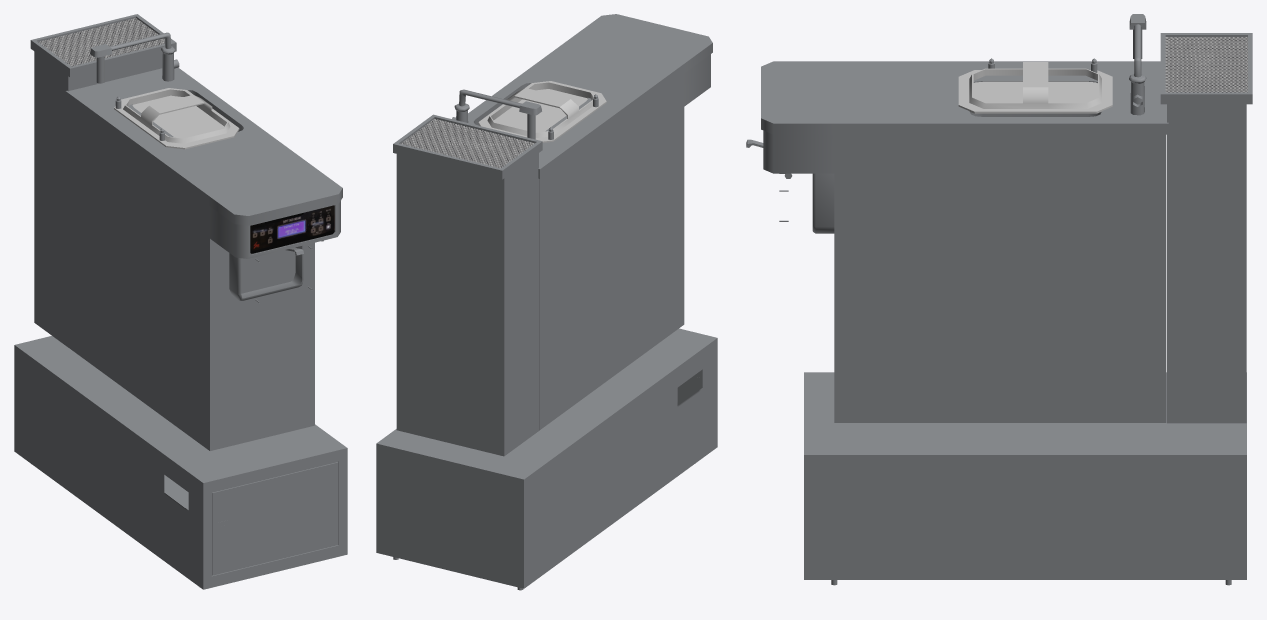
File: LC_3030_ice_cream_machine_LOD2.FBX
3 renders of one model, left to right at view 1: azimuth 30°, elevation 25°; view 2: azimuth 150°, elevation 25°; view 3: azimuth 270°, elevation 25°, orthographic. The views are drawn at different scales.
Parts seen in each view (by area): view 1: LC_3030_ice_cream_machine_LOD2, LC_3030_ice_cream_machine_Glass_LOD2; view 2: LC_3030_ice_cream_machine_LOD2, LC_3030_ice_cream_machine_Glass_LOD2; view 3: LC_3030_ice_cream_machine_LOD2, LC_3030_ice_cream_machine_Glass_LOD2.
Boxes of the visible parts, x1,y1,x2,y2 form: LC_3030_ice_cream_machine_LOD2: (14, 14, 347, 589); LC_3030_ice_cream_machine_Glass_LOD2: (114, 88, 239, 149); LC_3030_ice_cream_machine_LOD2: (376, 14, 717, 590); LC_3030_ice_cream_machine_Glass_LOD2: (478, 81, 606, 142); LC_3030_ice_cream_machine_LOD2: (746, 14, 1252, 585); LC_3030_ice_cream_machine_Glass_LOD2: (958, 62, 1112, 113).
Size of the model in its own units: 41.35 by 124 by 107.
